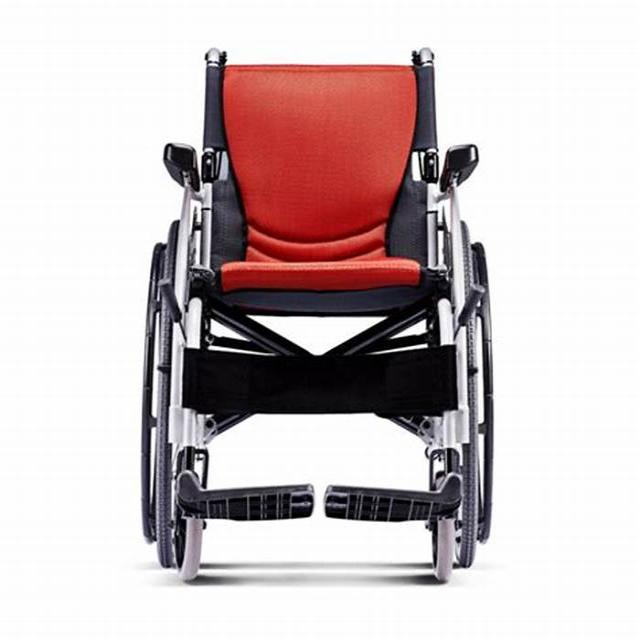wheelchairs: (135, 39, 503, 587)
